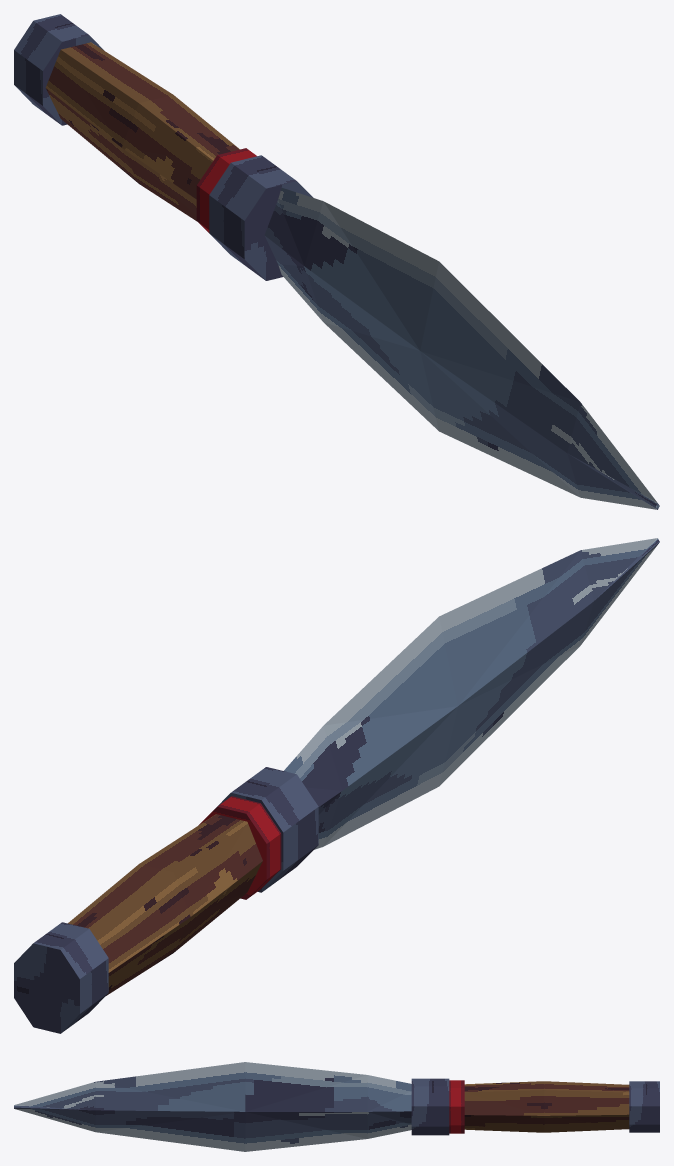
The model's file is messer-d-jagdeisen.glb.
3 views of the same model, one above another, from view 1: azimuth 30°, elevation 25°; view 2: azimuth 150°, elevation 25°; view 3: azimuth 270°, elevation 25° (orthographic). The views are drawn at different scales.
Visible parts, largest first — view 1: knife; view 2: knife; view 3: knife.
Boxes of the visible parts, x1=… form: knife: x1=14, y1=14, x2=659, y2=509; knife: x1=14, y1=538, x2=659, y2=1033; knife: x1=14, y1=1062, x2=659, y2=1151.
Size of the model in its own units: 0.0239 by 0.0526 by 0.342.
1 material, 1 textured.
